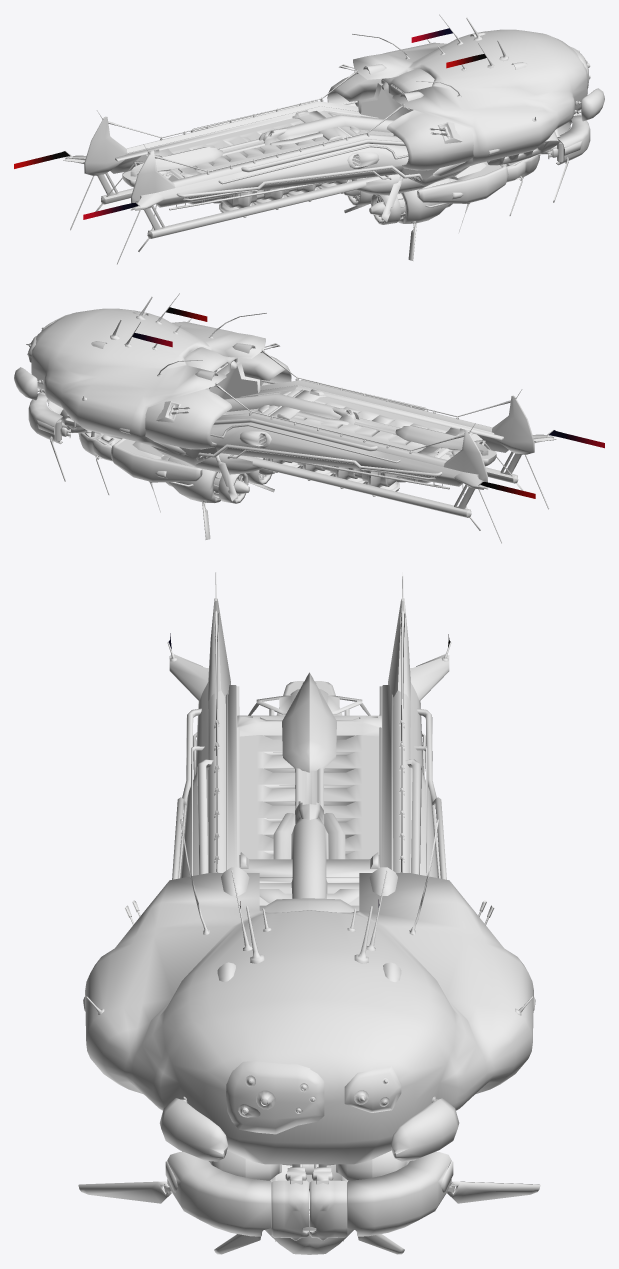
The model's file is Fallen_Skiff.fbx.
The picture shows the model from 3 angles, top to bottom: view 1: azimuth 30°, elevation 25°; view 2: azimuth 150°, elevation 25°; view 3: azimuth 270°, elevation 25°; orthographic projection. The views are drawn at different scales.
Visible parts, largest first — view 1: Mesh_0157.rip, Mesh_0155.rip, Mesh_0152.rip, Mesh_0153.rip, Mesh_0150.rip, Mesh_0168.rip, Mesh_0170.rip, Mesh_0149.rip, Mesh_0158.rip, Mesh_0156.rip; view 2: Mesh_0157.rip, Mesh_0155.rip, Mesh_0152.rip, Mesh_0153.rip, Mesh_0150.rip, Mesh_0168.rip, Mesh_0170.rip, Mesh_0149.rip, Mesh_0156.rip; view 3: Mesh_0155.rip, Mesh_0157.rip, Mesh_0168.rip, Mesh_0153.rip, Mesh_0150.rip, Mesh_0156.rip, Mesh_0152.rip, Mesh_0149.rip, Mesh_0165.rip.001, Mesh_0165.rip.
Part boxes in pixels (x1,y1,x2,y2): Mesh_0157.rip: (63,83,469,264); Mesh_0155.rip: (108,14,588,232); Mesh_0152.rip: (344,68,508,233); Mesh_0153.rip: (115,32,590,207); Mesh_0150.rip: (106,88,604,260); Mesh_0168.rip: (548,113,590,202); Mesh_0170.rip: (14,28,486,219); Mesh_0149.rip: (133,64,581,179); Mesh_0158.rip: (486,128,560,165); Mesh_0156.rip: (183,103,391,217); Mesh_0157.rip: (149,362,556,543); Mesh_0155.rip: (26,293,510,511); Mesh_0152.rip: (86,347,274,512); Mesh_0153.rip: (27,311,503,486); Mesh_0150.rip: (14,367,512,539); Mesh_0168.rip: (28,392,70,481); Mesh_0170.rip: (132,307,604,498); Mesh_0149.rip: (37,343,485,458); Mesh_0156.rip: (227,382,435,496); Mesh_0155.rip: (85,611,533,1254); Mesh_0157.rip: (167,572,451,905); Mesh_0168.rip: (78,1152,540,1240); Mesh_0153.rip: (83,685,535,1117); Mesh_0150.rip: (159,703,459,1254); Mesh_0156.rip: (178,732,440,903); Mesh_0152.rip: (209,898,409,1209); Mesh_0149.rip: (124,689,494,1102); Mesh_0165.rip.001: (336,1150,408,1180); Mesh_0165.rip: (209,1150,281,1180).
Size of the model in its own units: 158 by 53.22 by 59.2.
